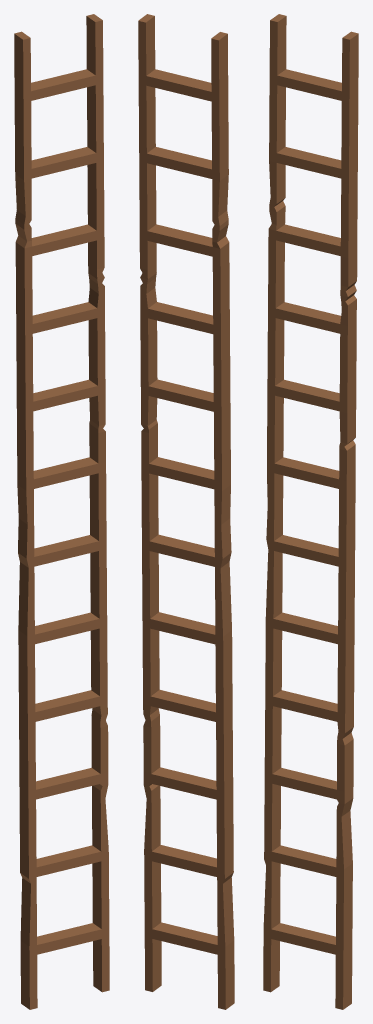
The model's file is Ladder_long.glb.
The picture shows the model from 3 angles, left to right: view 1: azimuth 30°, elevation 25°; view 2: azimuth 150°, elevation 25°; view 3: azimuth 330°, elevation 25°; orthographic projection.
Visible parts, largest first — view 1: Ladder_long; view 2: Ladder_long; view 3: Ladder_long.
Part boxes in pixels (x1,y1,x2,y2): Ladder_long: [14, 14, 109, 1009]; Ladder_long: [138, 14, 234, 1009]; Ladder_long: [263, 14, 358, 1009].
Size of the model in its own units: 0.6331 by 7.31 by 0.2159.
